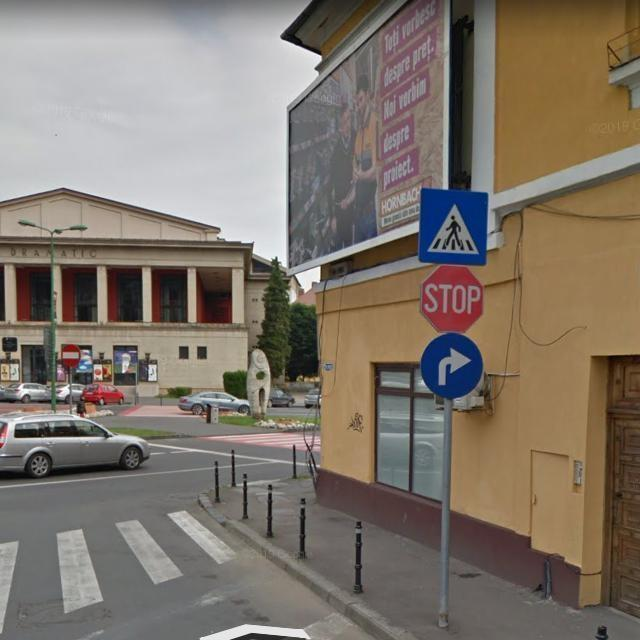info_crosswalk: (415, 186, 491, 262)
prio_stop: (420, 265, 483, 332)
